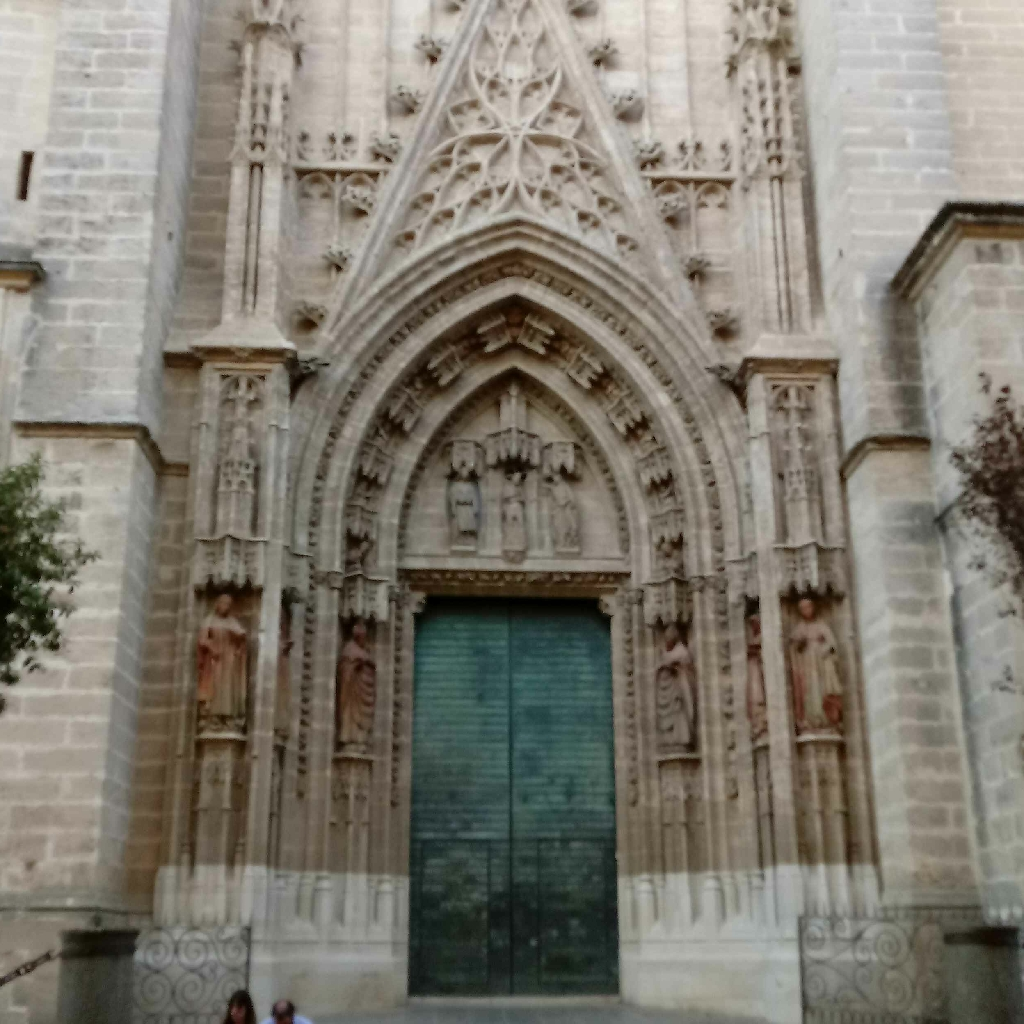arco-apuntado: (294, 204, 724, 551)
